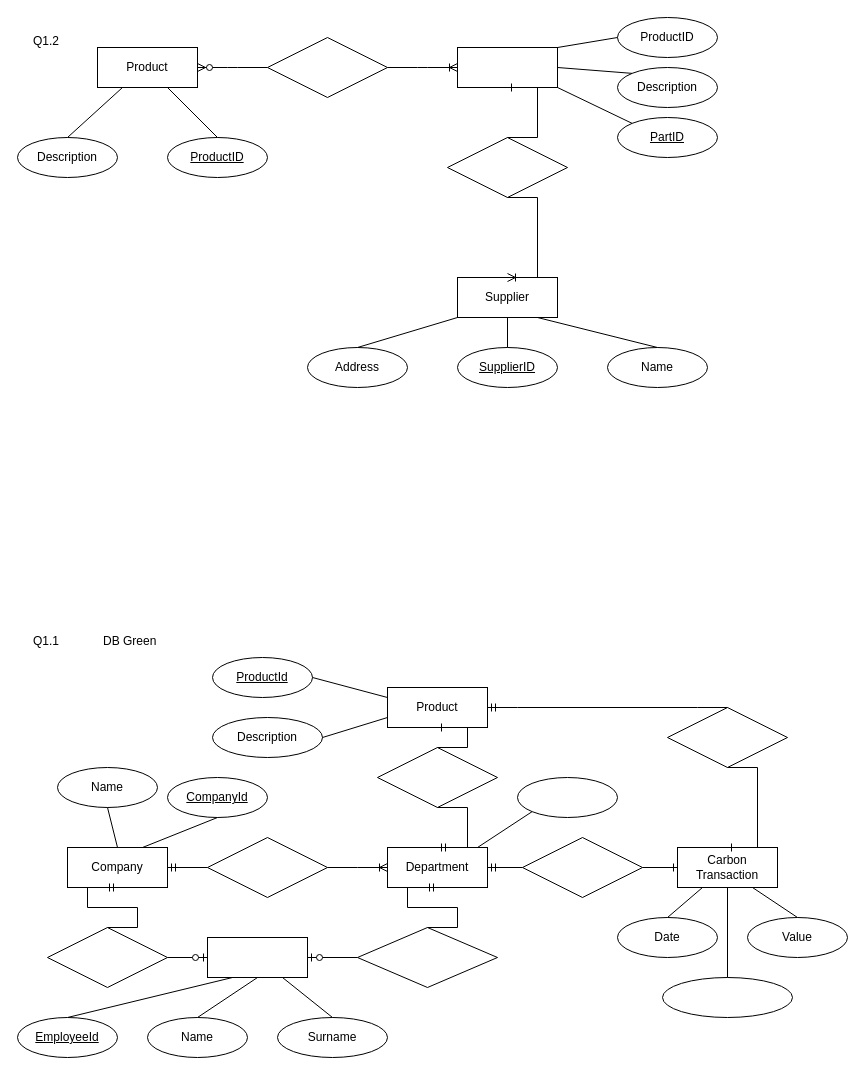
This 865x1075 diagram has some shape labels left out. The centre of each missing label's shape, as x and y in pixels:
Accounted For By: (582,867)
Allocated To: (437,777)
CarbonTransactionId: (727,997)
CEO Of: (107,957)
Consist of: (267,867)
Consists Of: (327,67)
DepartmentId: (567,797)
Employee: (257,957)
Green Champion Of: (427,957)
Part: (507,67)
Relates To: (727,737)
Supplied By: (507,167)
